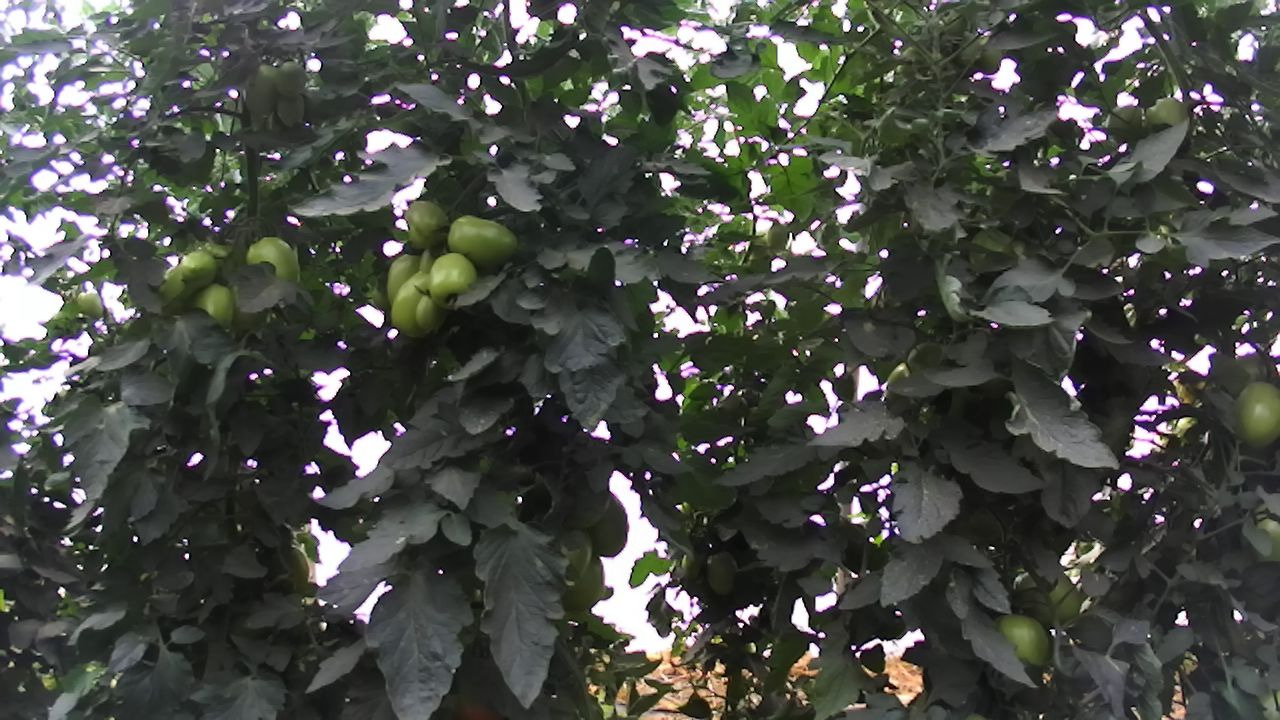tomato: (444, 212, 521, 267), (986, 611, 1052, 674), (1229, 380, 1280, 451), (242, 234, 303, 291), (388, 269, 435, 340), (425, 251, 480, 311), (403, 198, 450, 252), (414, 290, 448, 331)
